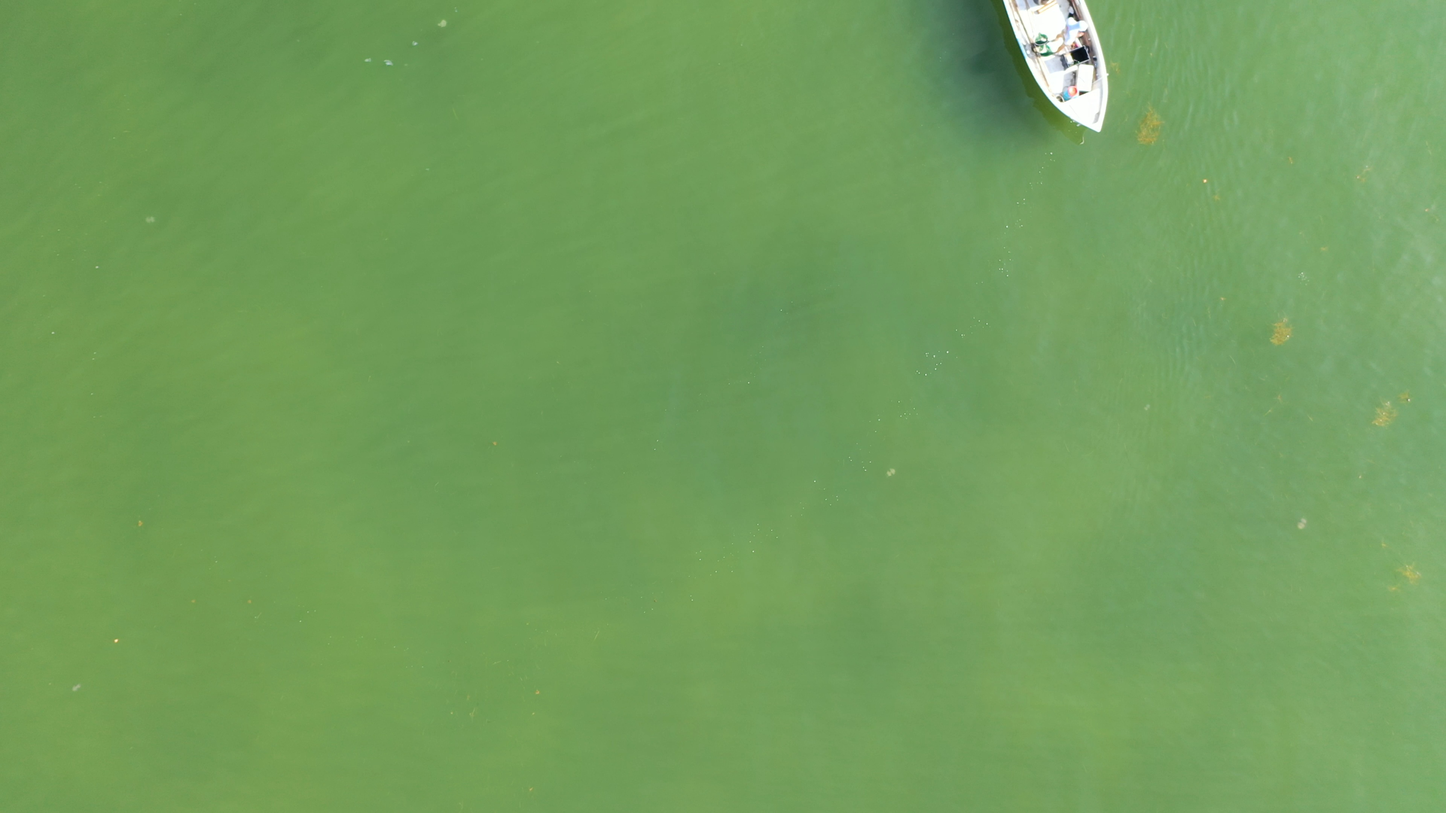meduse: (1297, 519, 1308, 529), (144, 215, 153, 224), (886, 469, 895, 478), (72, 684, 79, 692), (1146, 403, 1151, 410)
